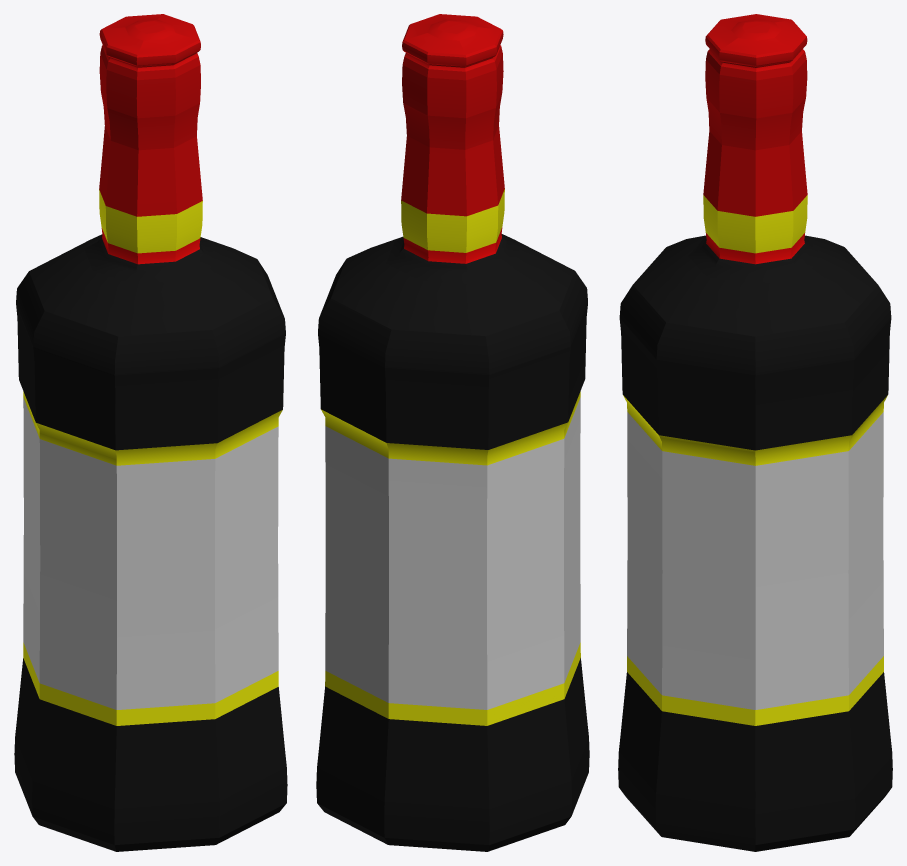
The model's file is Bottle 2.fbx.
3 views of the same model, side by side, from view 1: azimuth 30°, elevation 25°; view 2: azimuth 150°, elevation 25°; view 3: azimuth 270°, elevation 25° (orthographic).
Parts seen in each view (by area): view 1: Bottle3; view 2: Bottle3; view 3: Bottle3.
Part boxes in pixels (x1,y1,x2,y2): Bottle3: (14, 14, 287, 851); Bottle3: (316, 14, 589, 851); Bottle3: (618, 14, 892, 851).
Size of the model in its own units: 33.19 by 103 by 33.19.
